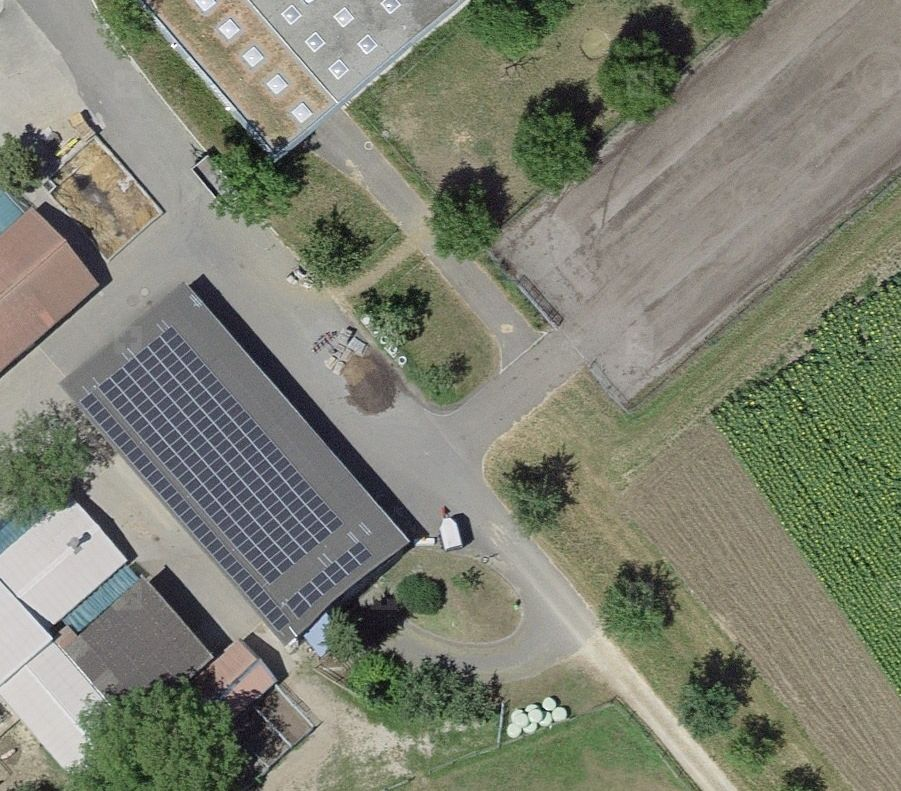solar: (77, 323, 372, 637)
